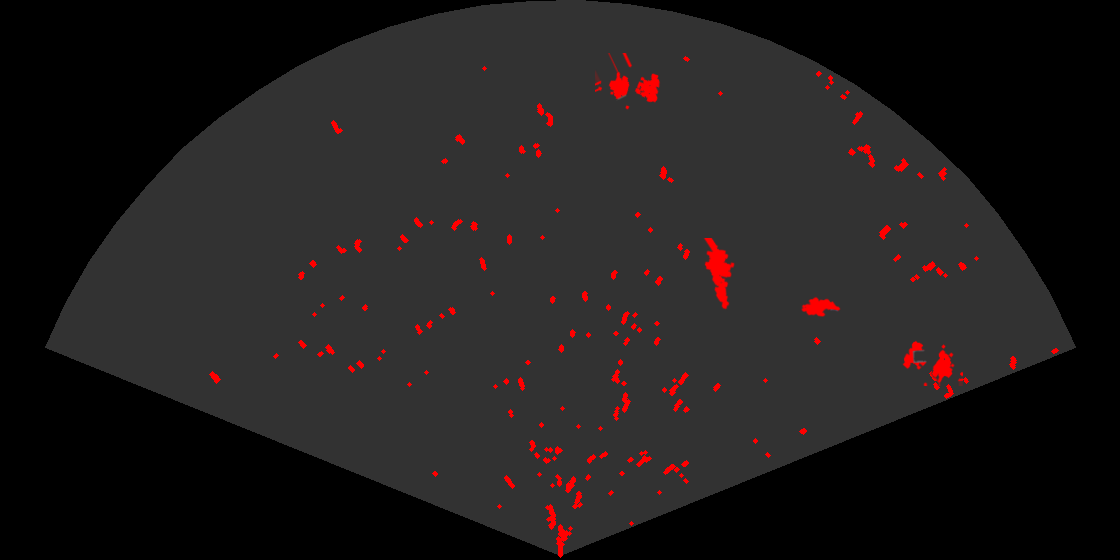AUV: (800, 295, 842, 318)
cage: (595, 53, 662, 111), (901, 339, 963, 386)
frogman: (702, 238, 736, 311)
